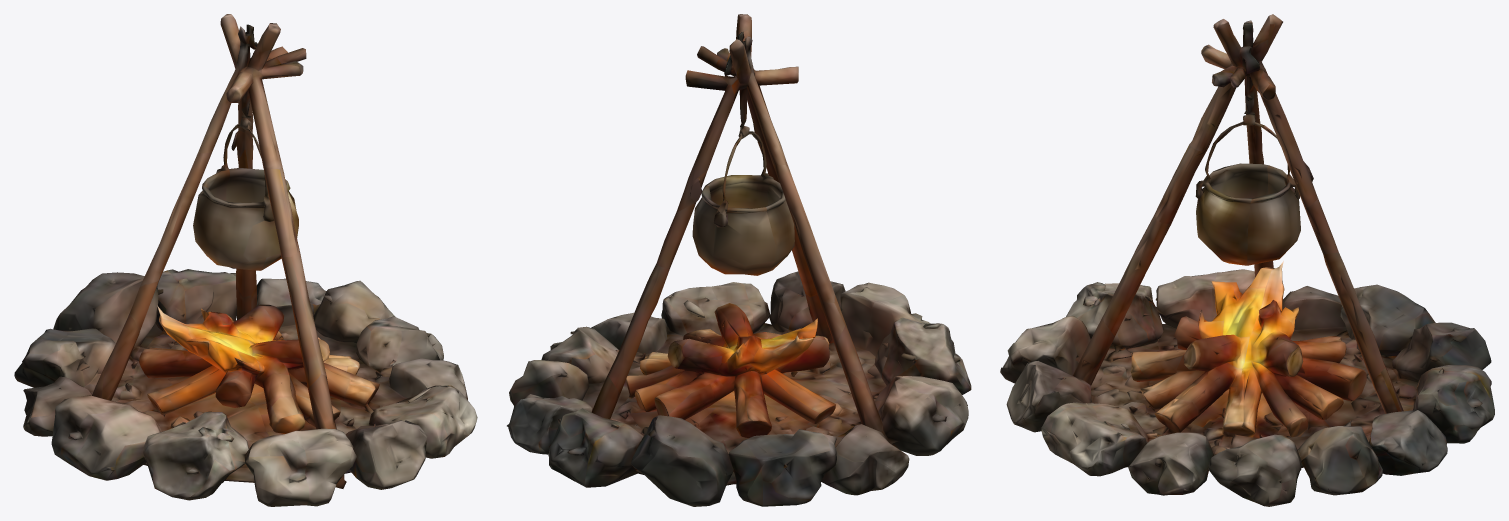
Rendered from campfire-low.glb.
3 renders of one model, left to right at view 1: azimuth 30°, elevation 25°; view 2: azimuth 150°, elevation 25°; view 3: azimuth 270°, elevation 25°, orthographic.
Size of the model in its own units: 0.9149 by 0.9021 by 0.9985.
1 material, 1 textured.
